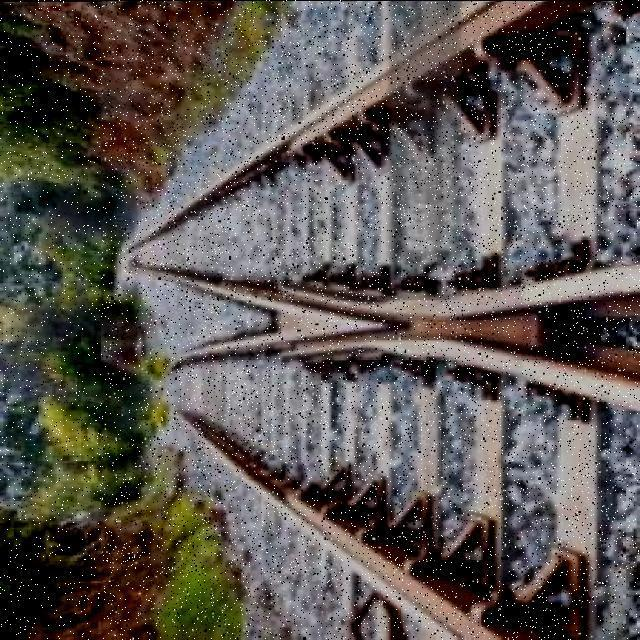rail: (103, 1, 623, 639)
